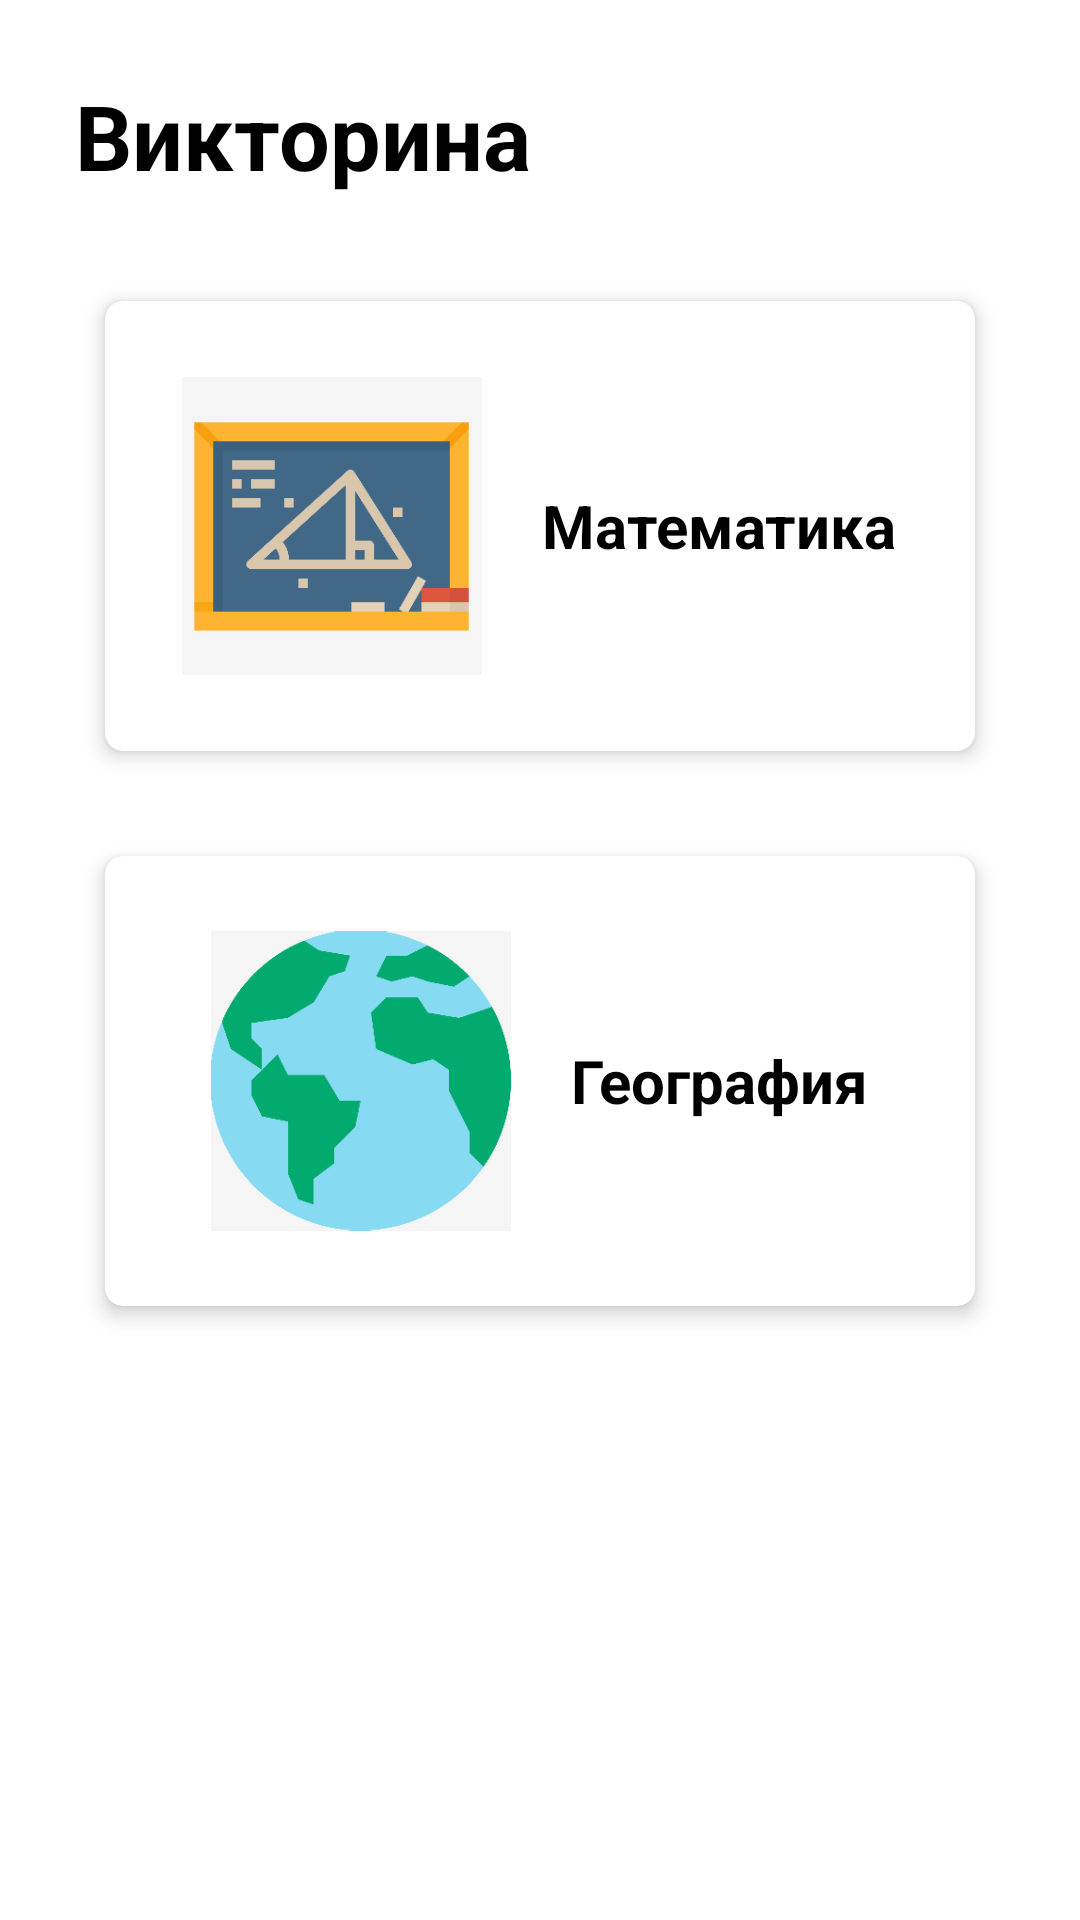

Where to tap for icons on this 1080 × 1920 app screen, as (x=x, y=y):
geog: (x=361, y=1081)
math: (x=331, y=526)
